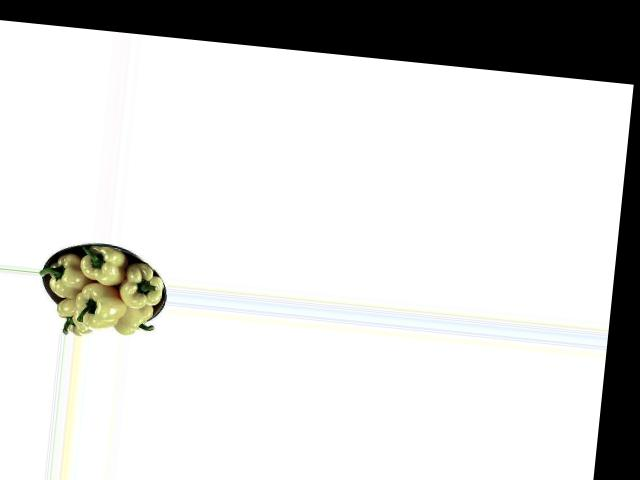bell_pepper: (50, 292, 95, 336)
